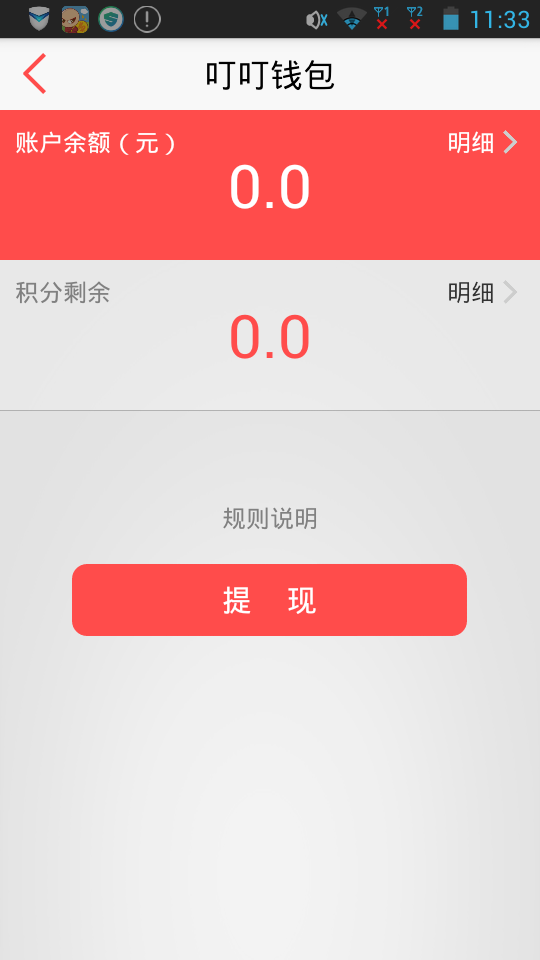textview: (189, 50, 347, 104)
